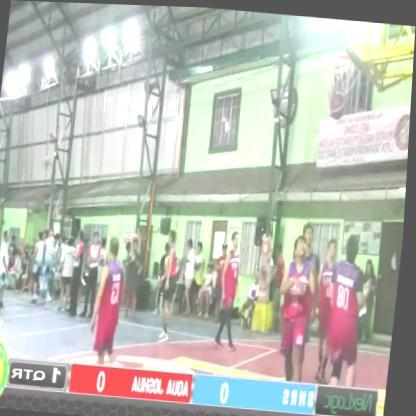basketball: (324, 84, 351, 126)
rim: (316, 36, 365, 102)
